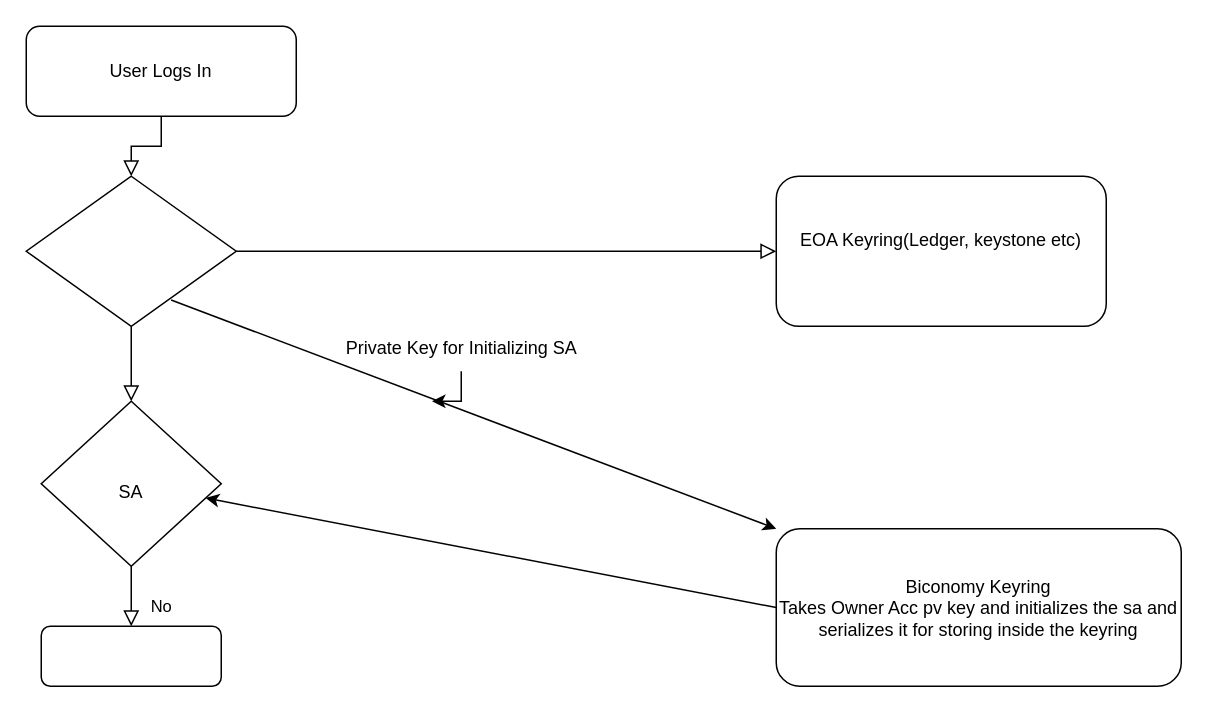
This 1208x713 diagram has some shape labels left out. Each missing label, with the box of its shape:
EOA: (25, 175, 236, 326)
Repair Lamp: (40, 625, 221, 686)
